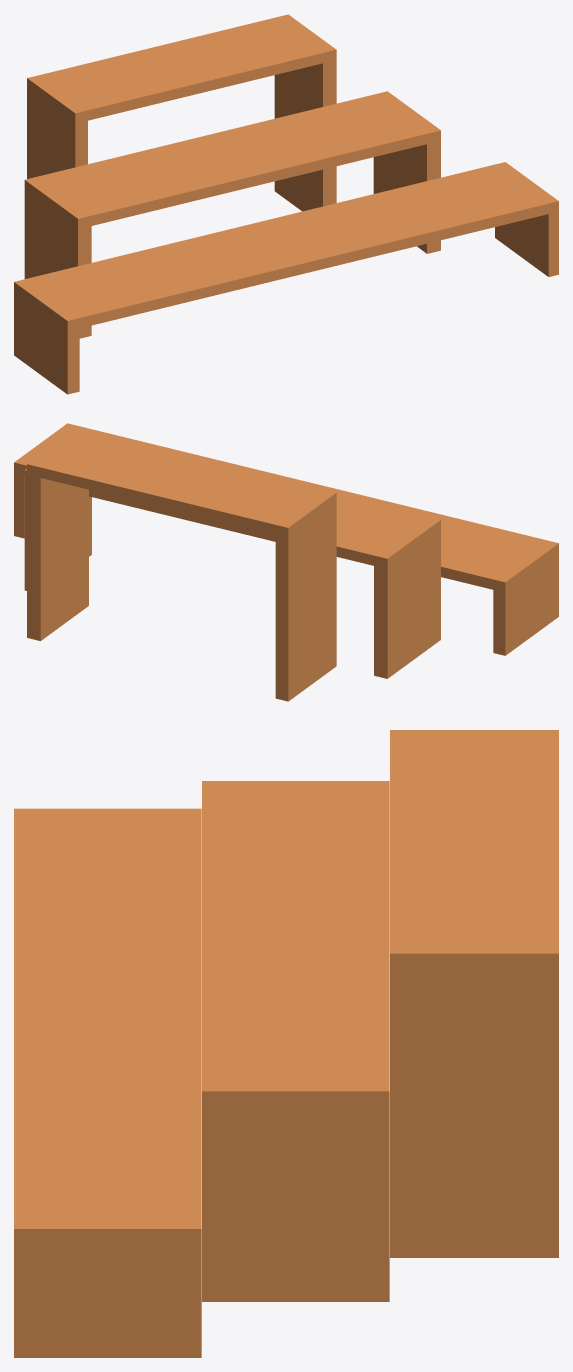
The model's file is shelf_model.fbx.
3 renders of one model, top to bottom at view 1: azimuth 30°, elevation 25°; view 2: azimuth 150°, elevation 25°; view 3: azimuth 270°, elevation 25°, orthographic. The views are drawn at different scales.
Parts seen in each view (by area): view 1: pCube1, pCube2, pCube3; view 2: pCube3, pCube2, pCube1; view 3: pCube1, pCube2, pCube3.
Boxes of the visible parts, bbox=[...] form: pCube1: bbox=[14, 162, 558, 394]; pCube2: bbox=[24, 91, 440, 338]; pCube3: bbox=[27, 14, 336, 211]; pCube3: bbox=[27, 429, 336, 701]; pCube2: bbox=[24, 469, 440, 678]; pCube1: bbox=[14, 423, 558, 655]; pCube1: bbox=[14, 808, 201, 1357]; pCube2: bbox=[202, 781, 389, 1301]; pCube3: bbox=[390, 730, 558, 1257].
Size of the model in its own units: 27.47 by 9.32 by 15.05.
